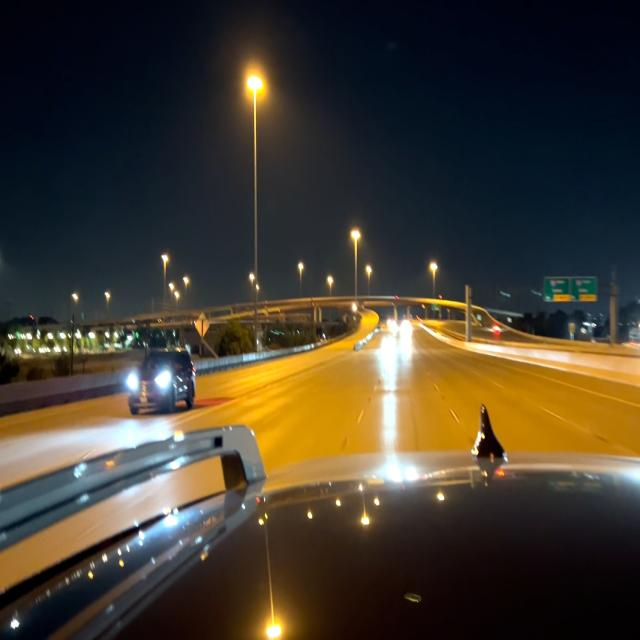back-of-sign: (195, 311, 210, 338)
